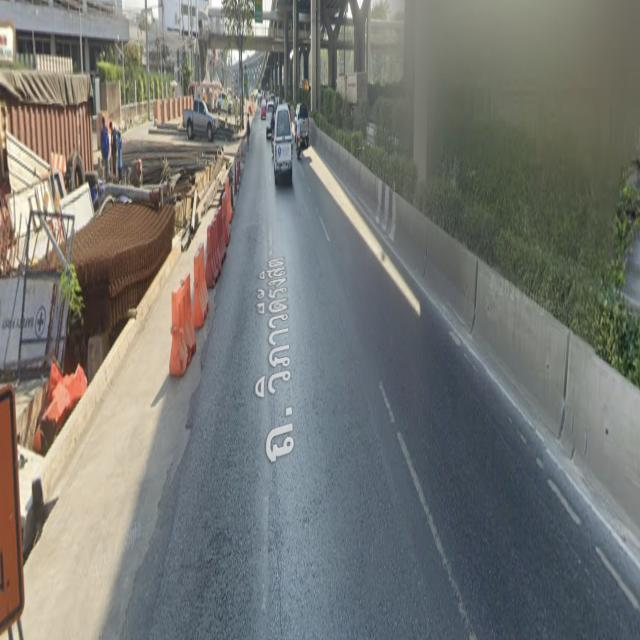fallen_object: (155, 262, 229, 376), (182, 193, 253, 295), (139, 95, 205, 127)
